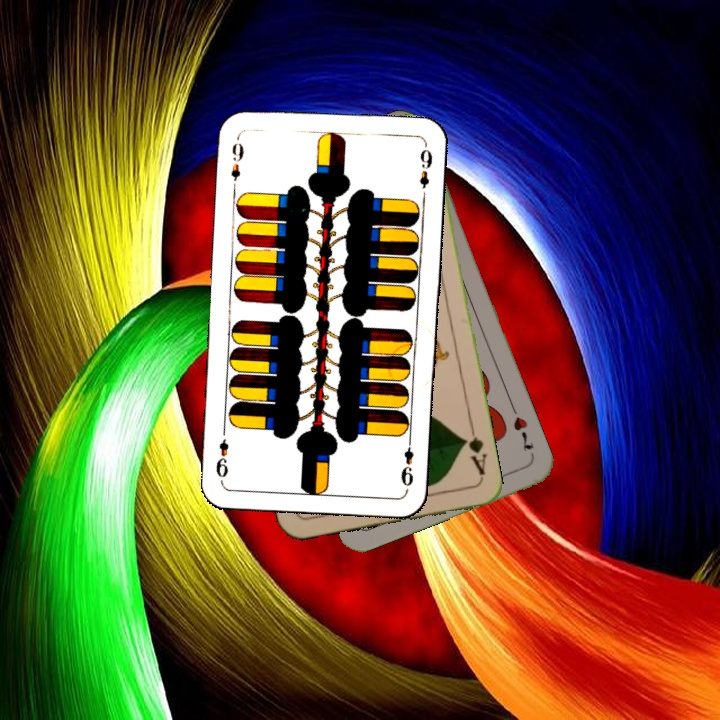E9: (397, 432, 416, 489), (227, 139, 247, 192)
GA: (458, 422, 489, 480)
H7: (509, 412, 536, 454)
